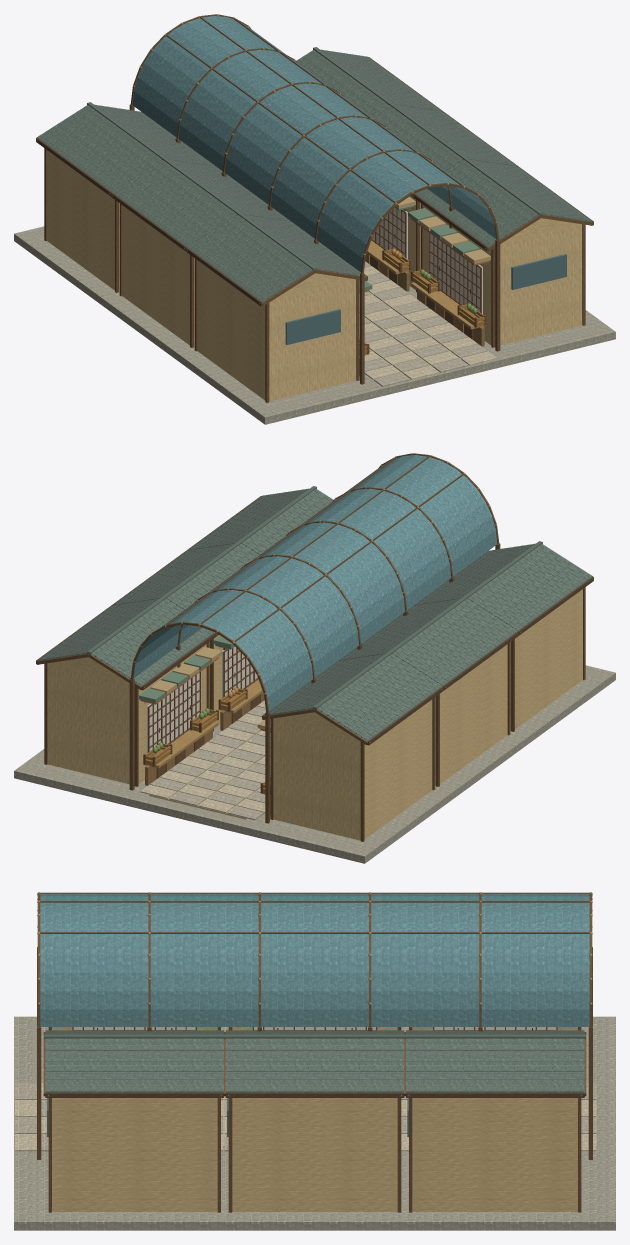
The model's file is layout_shopping-exterior-refined-v1.glb.
3 views of the same model, one above another, from view 1: azimuth 30°, elevation 25°; view 2: azimuth 150°, elevation 25°; view 3: azimuth 270°, elevation 25° (orthographic). The views are drawn at different scales.
Parts seen in each view (by area): view 1: layout_shopping_01_原有建筑轮廓与构件_EX_668d91_dark_rock_surface, layout_shopping_01_原有建筑轮廓与构件_EX_d5b984_fine_grained_wood_sur, layout_shopping_10_独立错缝瓦片_EX_65766b_dark_rock_surface, layout_shopping_01_原有建筑轮廓与构件_EX_a6a290_dark_rock_surface, layout_shopping_01_原有建筑轮廓与构件_EX_705438_fine_grained_wood_sur, layout_shopping_01_原有建筑轮廓与构件_EX_c8bca1_dark_rock_surface, layout_shopping_01_原有建筑轮廓与构件_EX_b4ac99_dark_rock_surface, layout_shopping_01_原有建筑轮廓与构件_EX_66676a_plain_surface, layout_shopping_03_窗面与灯具_EX_5b7778_plain_window, layout_shopping_03_窗面与灯具_EX_e6deca_Paper001_window, layout_shopping_01_原有建筑轮廓与构件_EX_65766b_plain_surface, layout_shopping_01_原有建筑轮廓与构件_EX_71533d_fine_grained_wood_sur (+8 smaller); view 2: layout_shopping_01_原有建筑轮廓与构件_EX_d5b984_fine_grained_wood_sur, layout_shopping_01_原有建筑轮廓与构件_EX_668d91_dark_rock_surface, layout_shopping_10_独立错缝瓦片_EX_65766b_dark_rock_surface, layout_shopping_01_原有建筑轮廓与构件_EX_a6a290_dark_rock_surface, layout_shopping_01_原有建筑轮廓与构件_EX_705438_fine_grained_wood_sur, layout_shopping_01_原有建筑轮廓与构件_EX_b4ac99_dark_rock_surface, layout_shopping_01_原有建筑轮廓与构件_EX_c8bca1_dark_rock_surface, layout_shopping_01_原有建筑轮廓与构件_EX_66676a_plain_surface, layout_shopping_03_窗面与灯具_EX_e6deca_Paper001_window, layout_shopping_01_原有建筑轮廓与构件_EX_65766b_plain_surface, layout_shopping_01_原有建筑轮廓与构件_EX_71533d_fine_grained_wood_sur, layout_shopping_01_原有建筑轮廓与构件_EX_604a35_fine_grained_wood_sur (+7 smaller); view 3: layout_shopping_01_原有建筑轮廓与构件_EX_668d91_dark_rock_surface, layout_shopping_01_原有建筑轮廓与构件_EX_d5b984_fine_grained_wood_sur, layout_shopping_10_独立错缝瓦片_EX_65766b_dark_rock_surface, layout_shopping_01_原有建筑轮廓与构件_EX_a6a290_dark_rock_surface, layout_shopping_01_原有建筑轮廓与构件_EX_705438_fine_grained_wood_sur, layout_shopping_01_原有建筑轮廓与构件_EX_66676a_plain_surface, layout_shopping_01_原有建筑轮廓与构件_EX_604a35_fine_grained_wood_sur, layout_shopping_01_原有建筑轮廓与构件_EX_65766b_plain_surface, layout_shopping_02_屋顶瓦作_EX_65766b_dark_rock_surface, layout_shopping_01_原有建筑轮廓与构件_EX_c8bca1_dark_rock_surface, layout_shopping_01_原有建筑轮廓与构件_EX_b4ac99_dark_rock_surface, layout_shopping_03_窗面与灯具_EX_e6deca_Paper001_window (+2 smaller).
Boxes of the visible parts, x1,y1,x2,y2 form: layout_shopping_01_原有建筑轮廓与构件_EX_668d91_dark_rock_surface: (132, 16, 496, 271); layout_shopping_01_原有建筑轮廓与构件_EX_d5b984_fine_grained_wood_sur: (47, 150, 582, 401); layout_shopping_10_独立错缝瓦片_EX_65766b_dark_rock_surface: (37, 49, 592, 301); layout_shopping_01_原有建筑轮廓与构件_EX_a6a290_dark_rock_surface: (14, 226, 615, 424); layout_shopping_01_原有建筑轮廓与构件_EX_705438_fine_grained_wood_sur: (44, 14, 585, 402); layout_shopping_01_原有建筑轮廓与构件_EX_c8bca1_dark_rock_surface: (359, 266, 497, 379); layout_shopping_01_原有建筑轮廓与构件_EX_b4ac99_dark_rock_surface: (359, 261, 487, 386); layout_shopping_01_原有建筑轮廓与构件_EX_66676a_plain_surface: (96, 50, 587, 298); layout_shopping_03_窗面与灯具_EX_5b7778_plain_window: (285, 254, 566, 344); layout_shopping_03_窗面与灯具_EX_e6deca_Paper001_window: (372, 207, 482, 313); layout_shopping_01_原有建筑轮廓与构件_EX_65766b_plain_surface: (87, 47, 542, 270); layout_shopping_01_原有建筑轮廓与构件_EX_71533d_fine_grained_wood_sur: (371, 209, 481, 313); layout_shopping_01_原有建筑轮廓与构件_EX_d5b984_fine_grained_wood_sur: (47, 589, 582, 840); layout_shopping_01_原有建筑轮廓与构件_EX_668d91_dark_rock_surface: (133, 455, 497, 710); layout_shopping_10_独立错缝瓦片_EX_65766b_dark_rock_surface: (37, 488, 592, 740); layout_shopping_01_原有建筑轮廓与构件_EX_a6a290_dark_rock_surface: (14, 665, 615, 863); layout_shopping_01_原有建筑轮廓与构件_EX_705438_fine_grained_wood_sur: (44, 453, 585, 841); layout_shopping_01_原有建筑轮廓与构件_EX_b4ac99_dark_rock_surface: (150, 706, 270, 820); layout_shopping_01_原有建筑轮廓与构件_EX_c8bca1_dark_rock_surface: (140, 700, 270, 812); layout_shopping_01_原有建筑轮廓与构件_EX_66676a_plain_surface: (42, 489, 533, 737); layout_shopping_03_窗面与灯具_EX_e6deca_Paper001_window: (147, 646, 257, 752); layout_shopping_01_原有建筑轮廓与构件_EX_65766b_plain_surface: (87, 486, 542, 709); layout_shopping_01_原有建筑轮廓与构件_EX_71533d_fine_grained_wood_sur: (148, 648, 258, 752); layout_shopping_01_原有建筑轮廓与构件_EX_604a35_fine_grained_wood_sur: (36, 496, 593, 745); layout_shopping_01_原有建筑轮廓与构件_EX_668d91_dark_rock_surface: (40, 893, 589, 1026); layout_shopping_01_原有建筑轮廓与构件_EX_d5b984_fine_grained_wood_sur: (52, 1027, 577, 1211); layout_shopping_10_独立错缝瓦片_EX_65766b_dark_rock_surface: (45, 1030, 584, 1092); layout_shopping_01_原有建筑轮廓与构件_EX_a6a290_dark_rock_surface: (14, 1016, 615, 1230); layout_shopping_01_原有建筑轮廓与构件_EX_705438_fine_grained_wood_sur: (37, 892, 592, 1212); layout_shopping_01_原有建筑轮廓与构件_EX_66676a_plain_surface: (45, 1031, 584, 1086); layout_shopping_01_原有建筑轮廓与构件_EX_604a35_fine_grained_wood_sur: (45, 1030, 584, 1097); layout_shopping_01_原有建筑轮廓与构件_EX_65766b_plain_surface: (43, 1034, 586, 1039); layout_shopping_02_屋顶瓦作_EX_65766b_dark_rock_surface: (45, 1039, 584, 1092); layout_shopping_01_原有建筑轮廓与构件_EX_c8bca1_dark_rock_surface: (15, 1083, 596, 1151); layout_shopping_01_原有建筑轮廓与构件_EX_b4ac99_dark_rock_surface: (15, 1083, 596, 1151); layout_shopping_03_窗面与灯具_EX_e6deca_Paper001_window: (73, 1027, 556, 1029).
Size of the model in its own units: 25 by 12.92 by 31.
32 materials, 21 textured.
